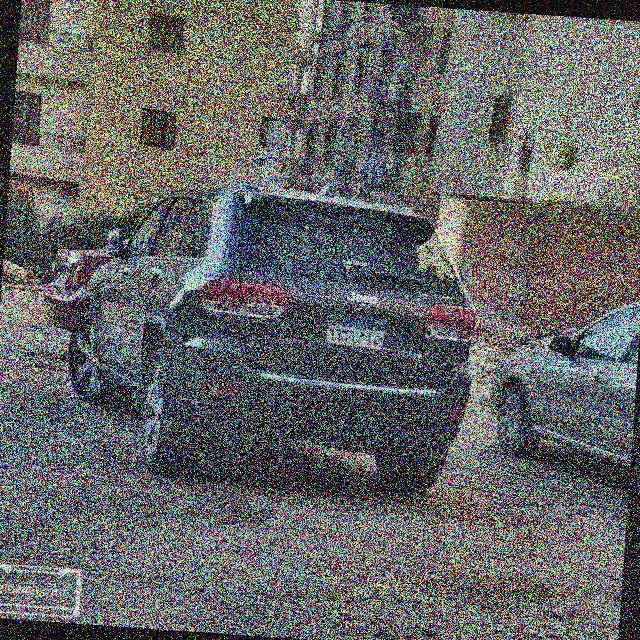License Plate: (322, 308, 389, 353)
